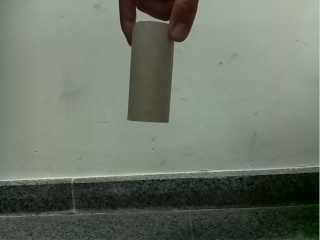rollo papel: (126, 22, 173, 124)
